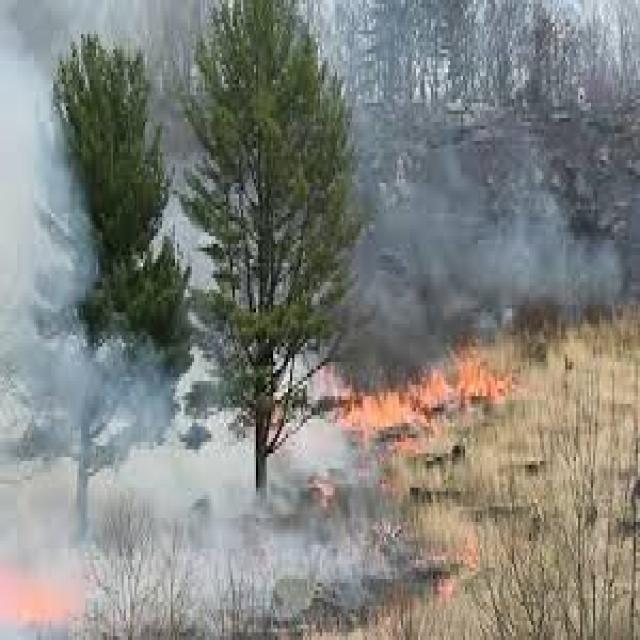Fire: (342, 340, 514, 446)
Smoke: (0, 497, 400, 640), (373, 136, 632, 343), (0, 351, 156, 629), (0, 0, 58, 638), (161, 457, 250, 640), (278, 457, 372, 611)
